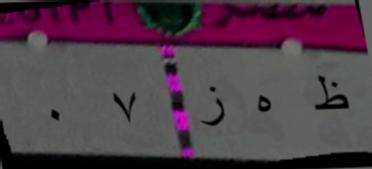0: (43, 96, 72, 134)
7: (103, 83, 154, 132)
Thaa: (306, 68, 354, 129)
haa: (250, 90, 274, 120)
zay: (198, 78, 230, 134)
